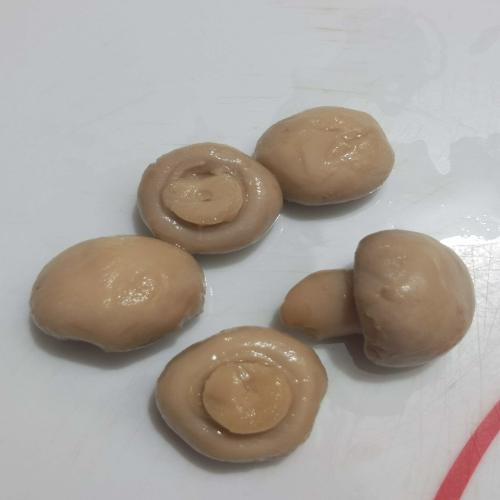Button Mushroom: (275, 195, 496, 392), (139, 298, 340, 487), (121, 118, 296, 280), (246, 85, 405, 229), (27, 231, 207, 356)
